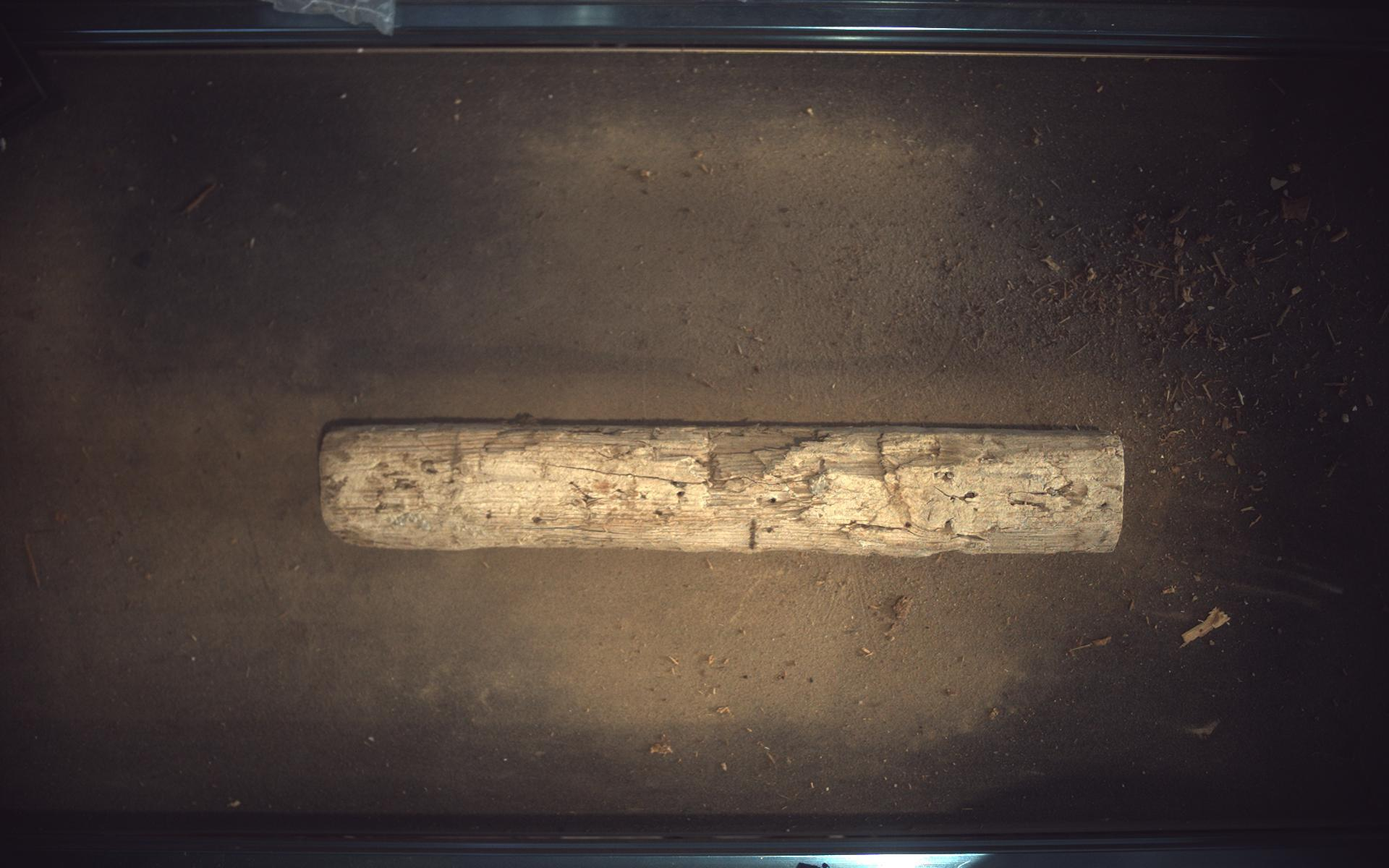wood: (320, 420, 1127, 557)
